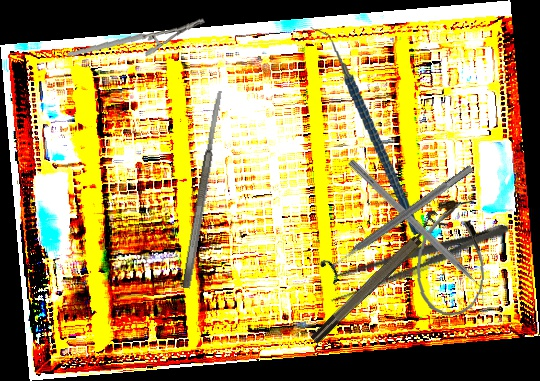Cannula: (414, 196, 489, 319)
Chopper: (310, 18, 422, 243), (340, 158, 495, 308)
Dressing Forceps: (321, 212, 515, 308)
Fixation Ring: (317, 156, 481, 286), (303, 208, 449, 347)
Needle Holder: (67, 6, 206, 68)
Spatula Surgical: (180, 90, 226, 289)
